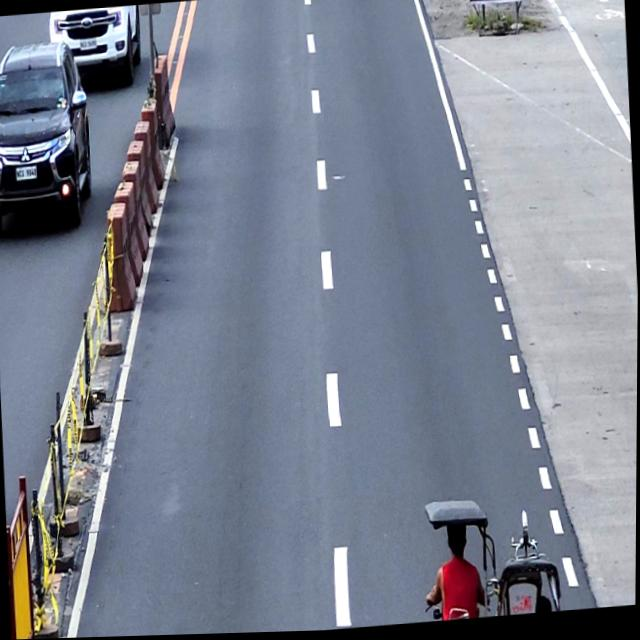Car: (0, 38, 96, 234), (46, 6, 145, 96)
License-Plate: (15, 164, 38, 182), (79, 39, 98, 51)
Tricycle: (421, 490, 567, 625)
